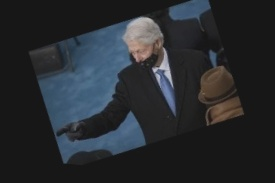mask_weared_incorrect: (124, 22, 161, 70)
